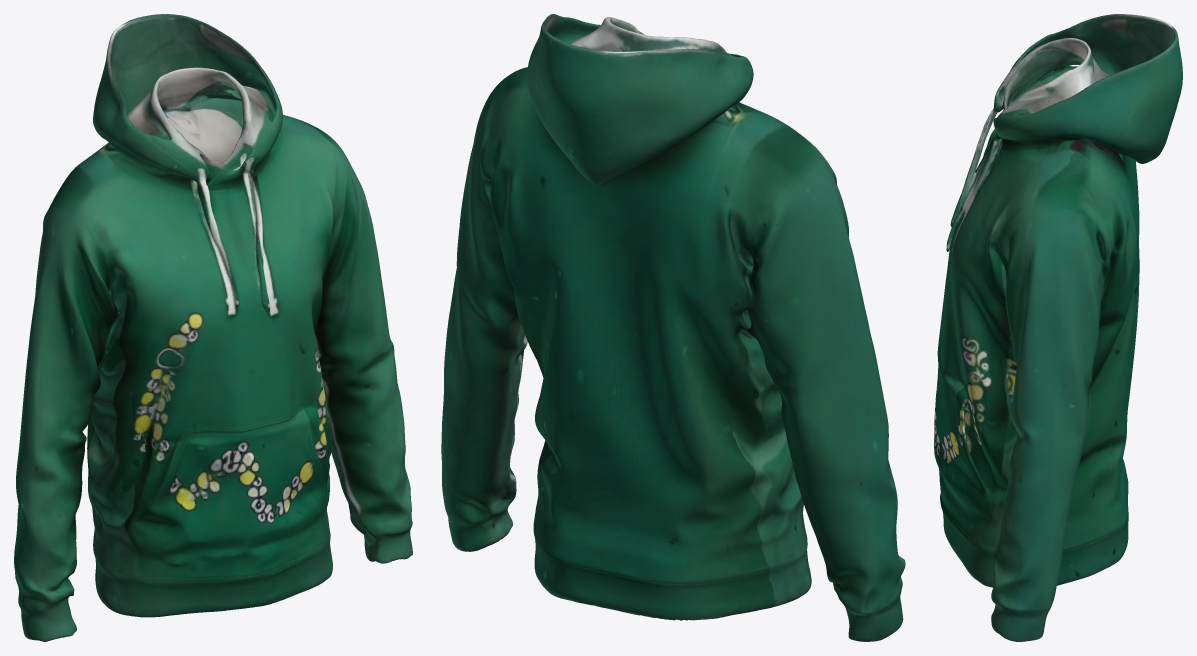
File: bejroska-hoodie.glb
3 renders of one model, left to right at view 1: azimuth 30°, elevation 25°; view 2: azimuth 150°, elevation 25°; view 3: azimuth 270°, elevation 25°, orthographic. The views are drawn at different scales.
Size of the model in its own units: 1.55 by 2 by 0.8693.
1 material, 1 textured.
